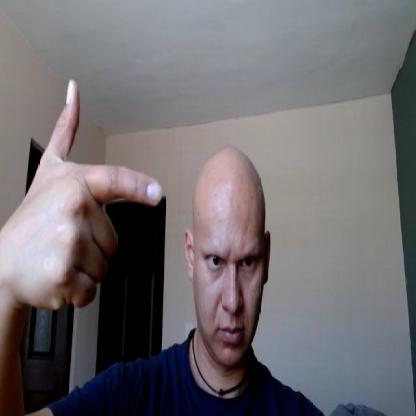G: (17, 77, 167, 308)
